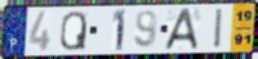1: (111, 8, 128, 53)
4: (28, 9, 55, 53)
9: (134, 9, 160, 50)
A: (163, 6, 201, 51)
I: (213, 7, 225, 50)
Q: (59, 10, 88, 52)
